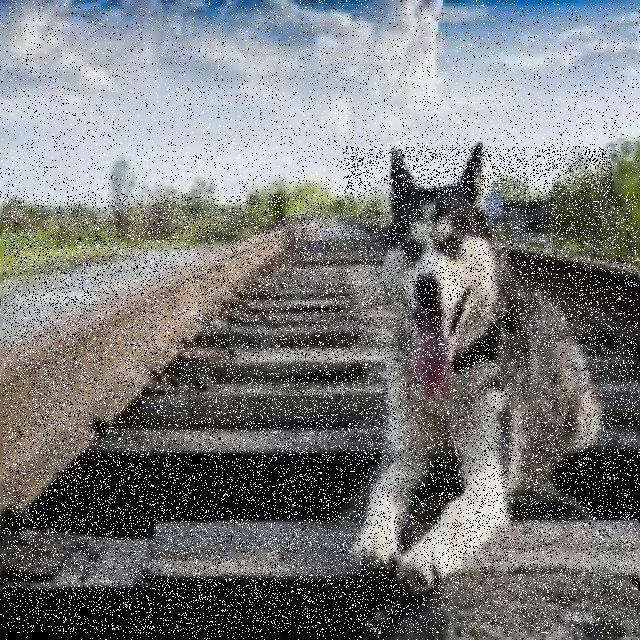danger: (343, 147, 612, 593)
rail: (3, 195, 638, 633)
